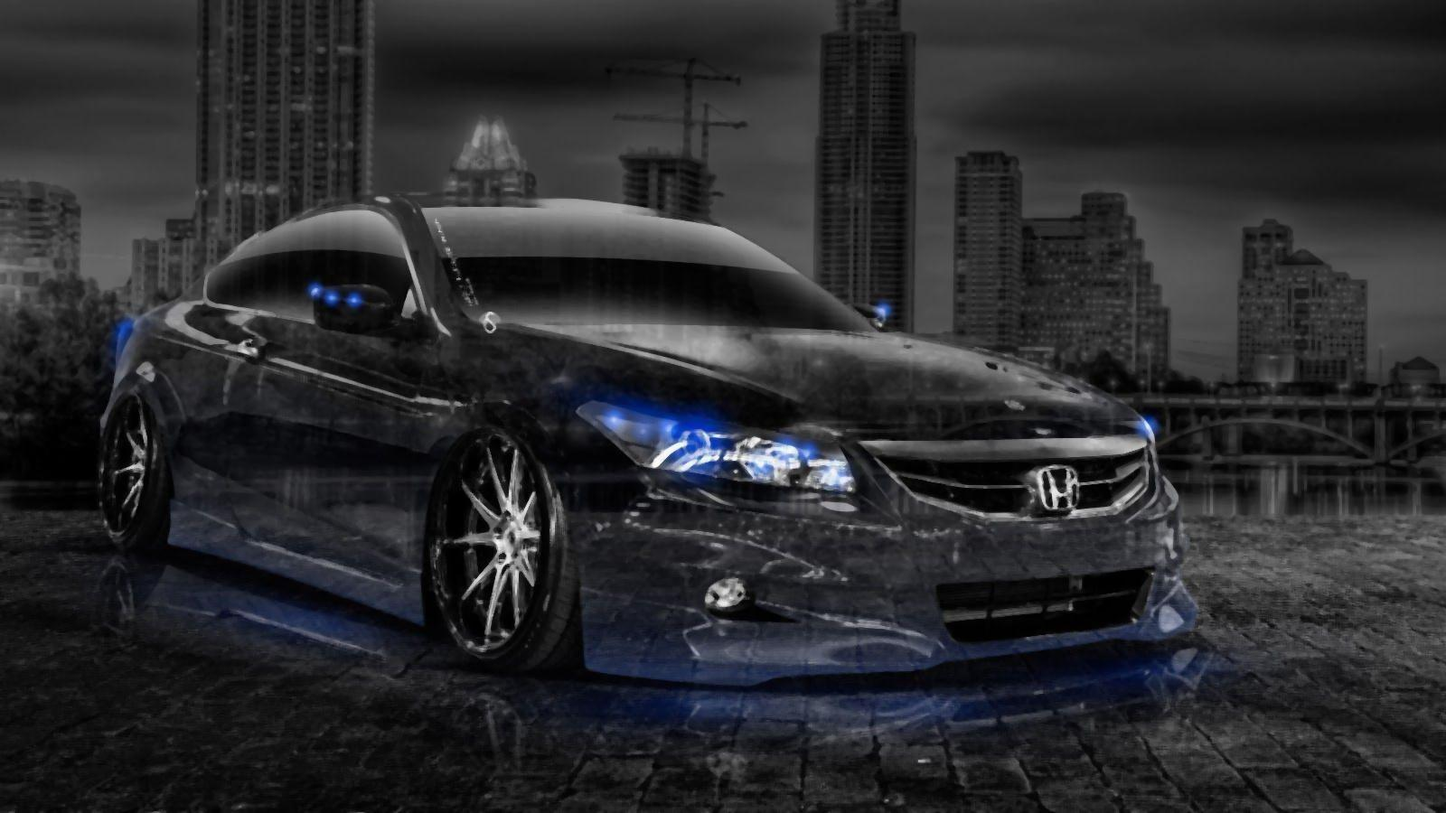Car hood: (491, 318, 1148, 430)
Driver-s door - -F-R-: (208, 199, 416, 589)
Fender - -F-R-: (414, 306, 596, 620)
Fender - -R-R-: (124, 351, 195, 523)
Front bumper: (577, 494, 1213, 699)
Headlight - -L-: (1125, 401, 1165, 456)
Headlight - -R-: (568, 390, 862, 500)
Rear bumper: (87, 378, 121, 485)
Rear light - -R-: (103, 303, 142, 371)
Side bumper - -R-: (158, 493, 437, 634)
Side mirror - -L-: (832, 294, 893, 330)
Side mirror - -R-: (303, 273, 405, 340)
